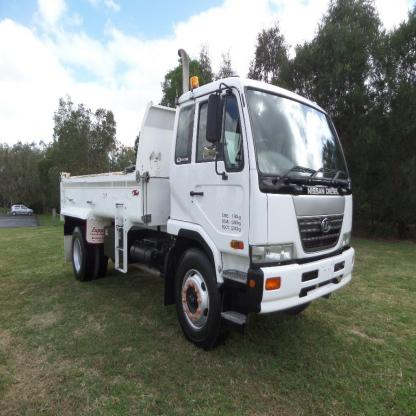dump_truck: (55, 55, 362, 360)
